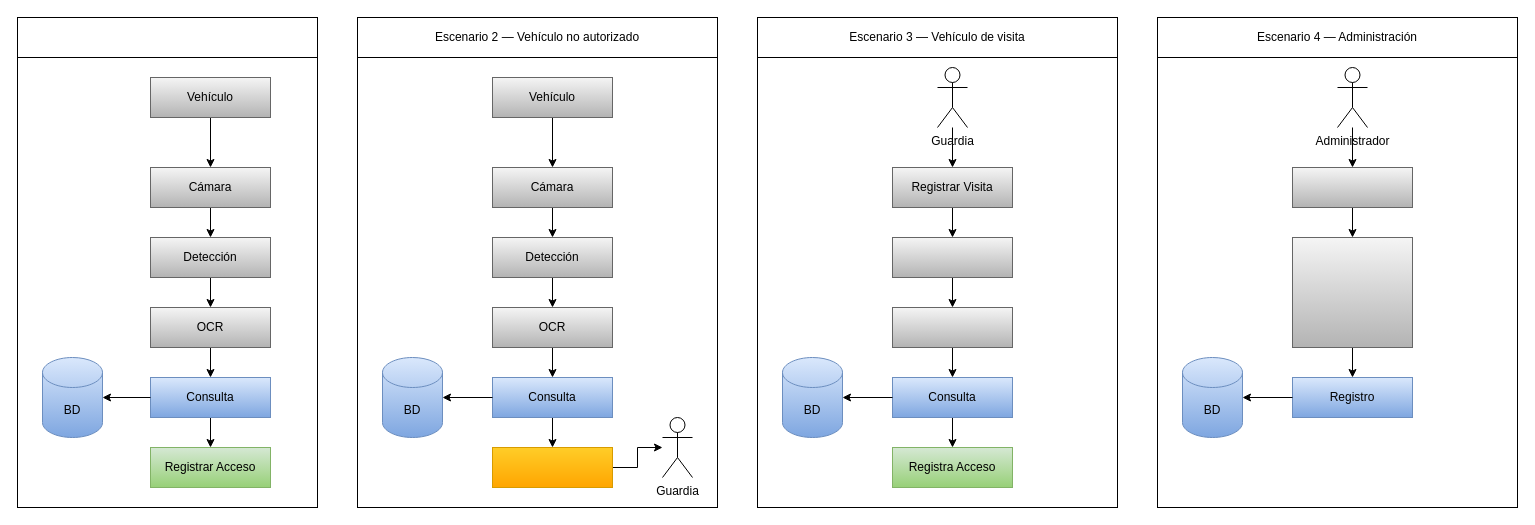
Image size: 1535x525. Some labels were removed from this diagram. The centre of each missing label's shape, as x and y in pixels:
Escenario 1 — Vehículo autorizado: the point at 167,37
Generar Alerta: the point at 552,467
Gestión: - Usuarios - Vehículos - Recinto: the point at 1352,292
Patente Autorizada Temporalmente: the point at 952,257
Plataforma Web: the point at 1352,187
Vehículo Ingresa: the point at 952,327
